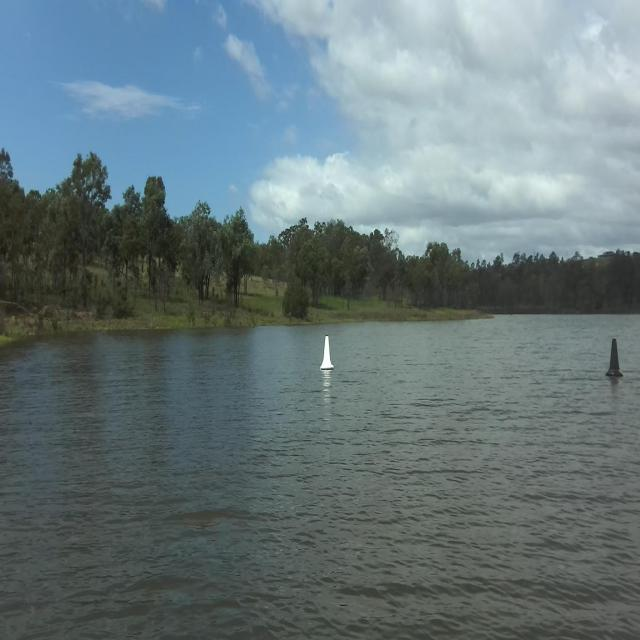Black_Buoy: (592, 334, 638, 382), (603, 342, 624, 374)
White_Buoy: (300, 332, 346, 376), (305, 333, 341, 372)
